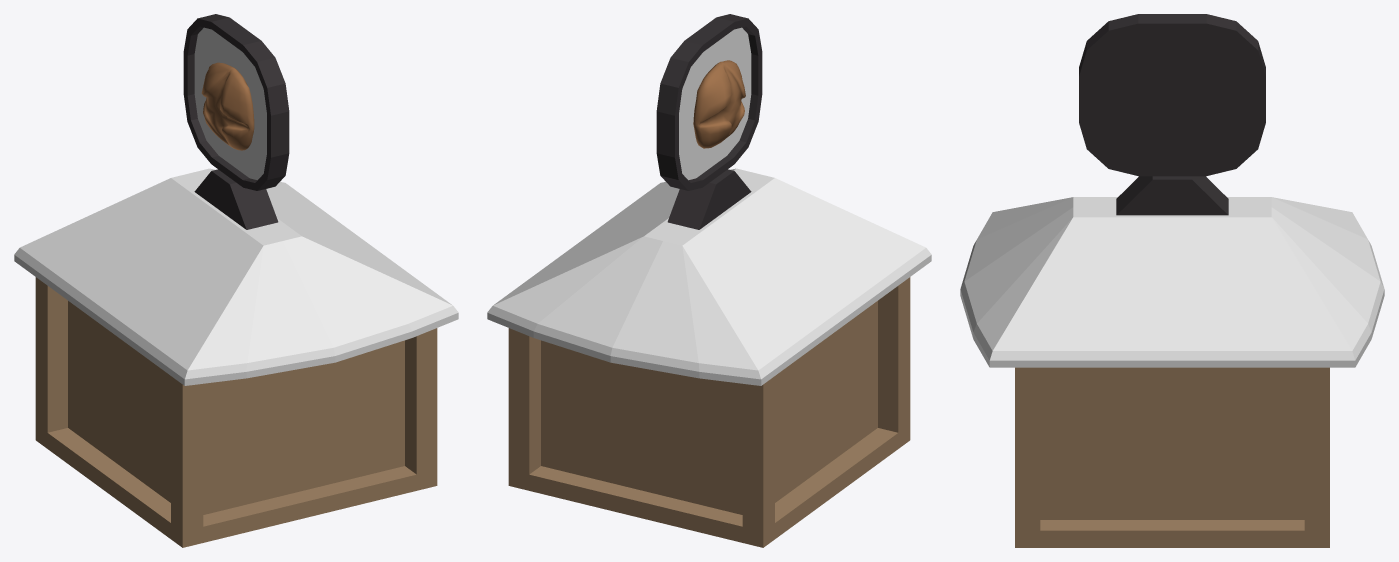
File: SM_LoafHouse.fbx
3 views of the same model, side by side, from view 1: azimuth 30°, elevation 25°; view 2: azimuth 150°, elevation 25°; view 3: azimuth 270°, elevation 25° (orthographic). The views are drawn at different scales.
Parts seen in each view (by area): view 1: SM_LoafHouse; view 2: SM_LoafHouse; view 3: SM_LoafHouse.
Boxes of the visible parts, x1=… form: SM_LoafHouse: x1=14, y1=14, x2=458, y2=547; SM_LoafHouse: x1=487, y1=14, x2=931, y2=547; SM_LoafHouse: x1=960, y1=14, x2=1384, y2=547.
Size of the model in its own units: 215 by 324 by 269.
